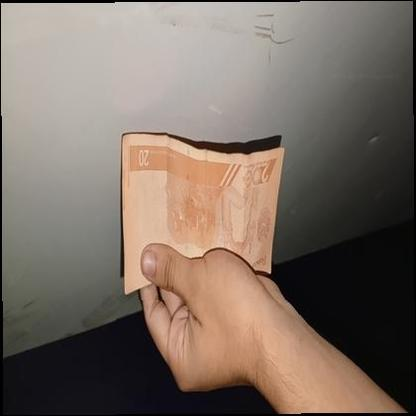twenty-back-vef: (121, 133, 286, 295)
